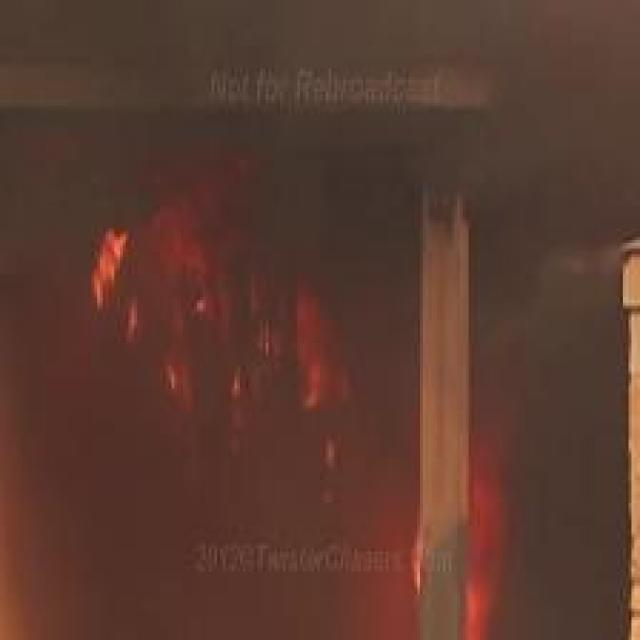Fire: (466, 423, 508, 640), (294, 287, 354, 407), (90, 230, 127, 316)
